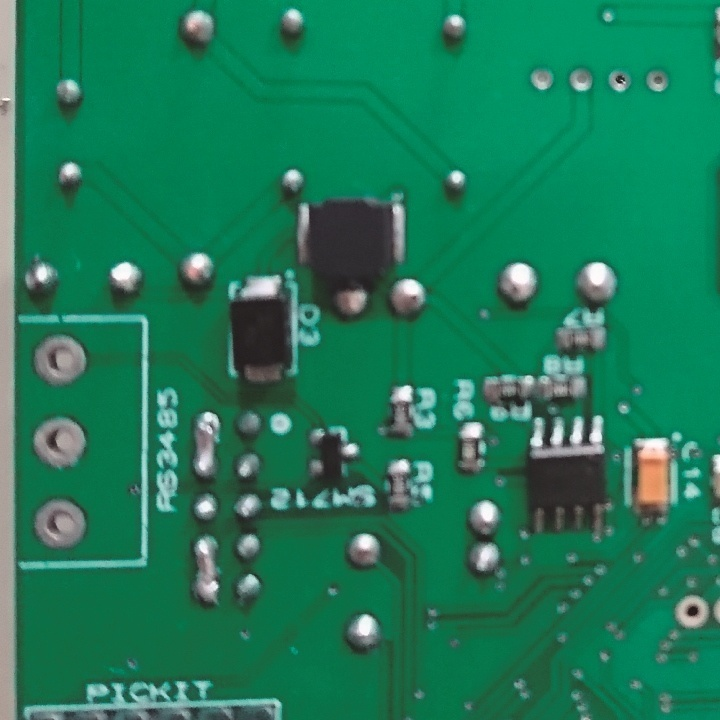F: (33, 490, 90, 556), (32, 329, 90, 388), (30, 412, 87, 471), (674, 595, 711, 632), (565, 64, 597, 97), (641, 64, 672, 98), (604, 64, 635, 97), (524, 65, 556, 92)
P: (187, 406, 221, 480), (194, 533, 222, 606)
